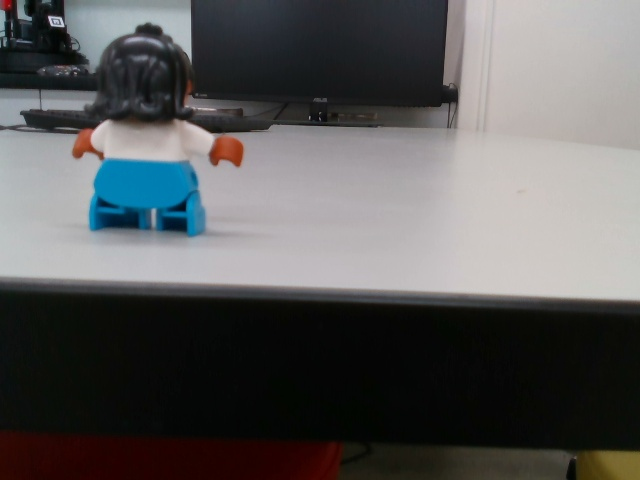people: (71, 21, 248, 237)
